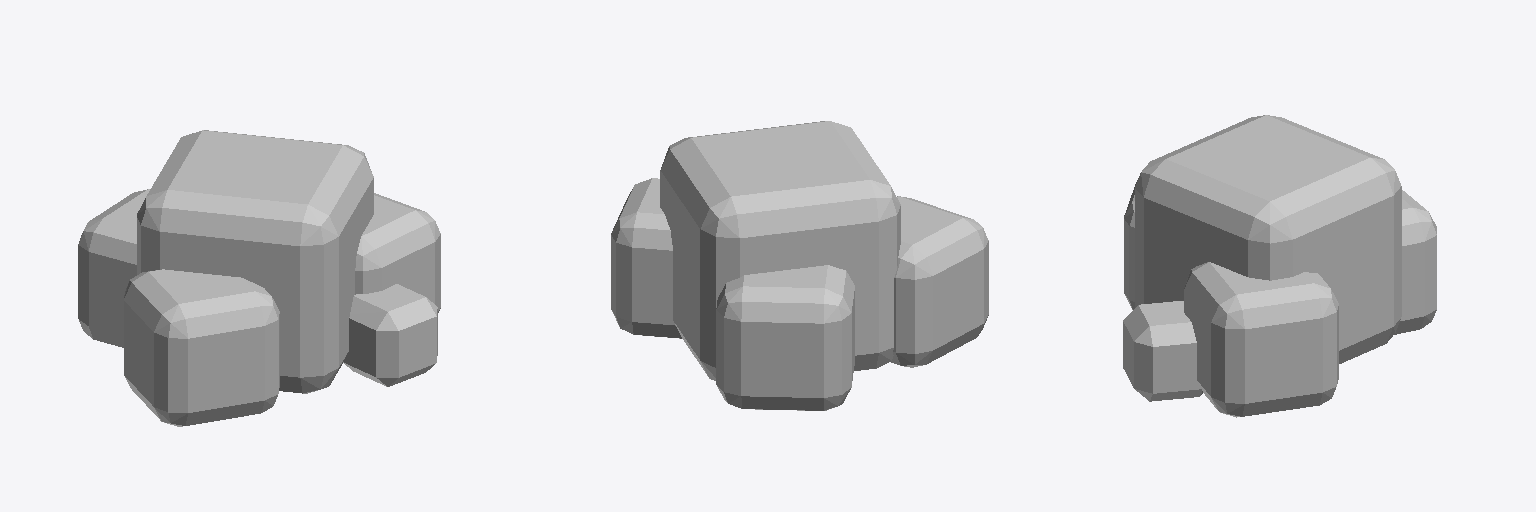
File: Bush_2_E_Color1.obj
The picture shows the model from 3 angles: view 1: azimuth 30°, elevation 25°; view 2: azimuth 150°, elevation 25°; view 3: azimuth 270°, elevation 25°; orthographic projection.
Parts seen in each view (by area): view 1: Bush_2_E_Color1; view 2: Bush_2_E_Color1; view 3: Bush_2_E_Color1.
Boxes of the visible parts, box(x1,y1,x2,y2) form: Bush_2_E_Color1: box(78, 130, 440, 426); Bush_2_E_Color1: box(611, 121, 988, 410); Bush_2_E_Color1: box(1123, 115, 1436, 417).
Bounding box in the file's own units: 2.35 × 1.33 × 2.01.